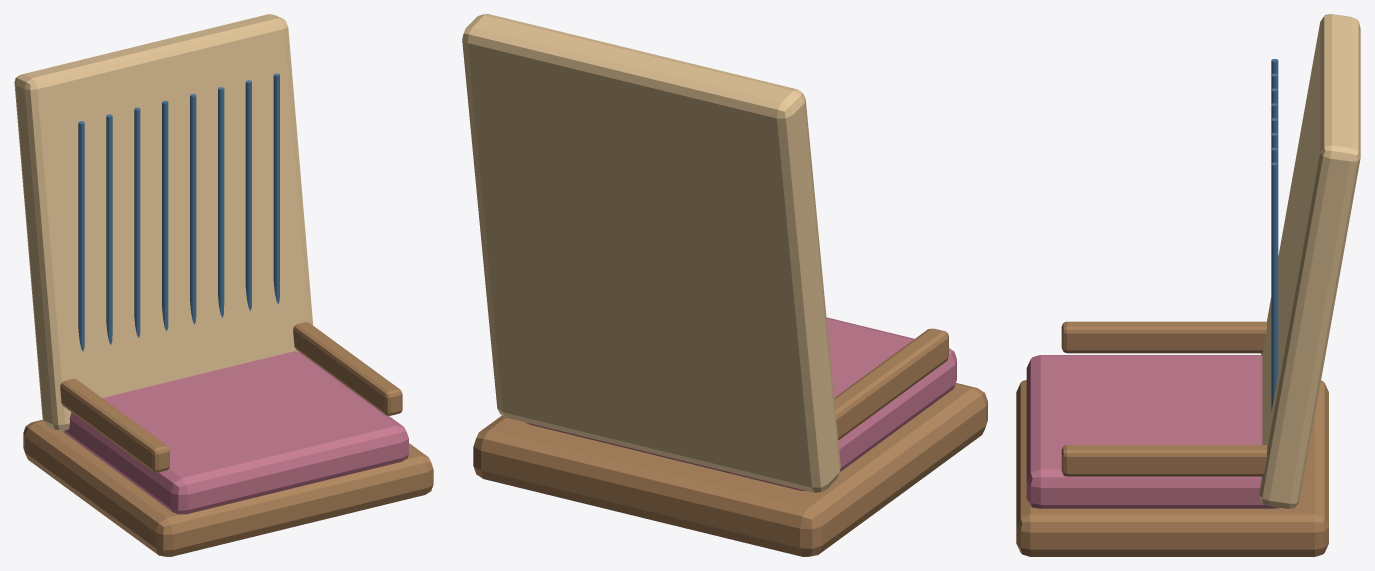
Rendered from woodwork_zaisu.glb.
3 renders of one model, left to right at view 1: azimuth 30°, elevation 25°; view 2: azimuth 150°, elevation 25°; view 3: azimuth 270°, elevation 25°, orthographic. The views are drawn at different scales.
Visible parts, largest first — view 1: Fitted angle backrest, Soft zaisu woven seat cushion, Zaisu reclining wooden seat, Curved chair side arm, Curved chair side arm.001, Woven backrest textile line.002, Woven backrest textile line.003, Woven backrest textile line.001, Woven backrest textile line.004, Woven backrest textile line.005, Woven backrest textile line, Woven backrest textile line.007 (+1 smaller); view 2: Fitted angle backrest, Zaisu reclining wooden seat, Soft zaisu woven seat cushion, Curved chair side arm; view 3: Soft zaisu woven seat cushion, Fitted angle backrest, Zaisu reclining wooden seat, Curved chair side arm, Curved chair side arm.001, Woven backrest textile line.007.
Boxes of the visible parts, box(x1,y1,x2,y2) form: Fitted angle backrest: box(14, 14, 313, 431); Soft zaisu woven seat cushion: box(63, 351, 408, 514); Zaisu reclining wooden seat: box(23, 419, 433, 556); Curved chair side arm: box(60, 378, 169, 472); Curved chair side arm.001: box(293, 322, 402, 415); Woven backrest textile line.002: box(134, 107, 140, 337); Woven backrest textile line.003: box(162, 101, 168, 331); Woven backrest textile line.001: box(106, 114, 112, 344); Woven backrest textile line.004: box(190, 94, 196, 324); Woven backrest textile line.005: box(218, 87, 224, 317); Woven backrest textile line: box(78, 121, 84, 351); Woven backrest textile line.007: box(273, 73, 279, 303); Fitted angle backrest: box(462, 14, 840, 492); Zaisu reclining wooden seat: box(473, 383, 987, 556); Soft zaisu woven seat cushion: box(525, 317, 956, 490); Curved chair side arm: box(834, 328, 948, 440); Soft zaisu woven seat cushion: box(1026, 355, 1280, 508); Fitted angle backrest: box(1259, 14, 1360, 508); Zaisu reclining wooden seat: box(1016, 380, 1328, 556); Curved chair side arm: box(1061, 321, 1266, 353); Curved chair side arm.001: box(1061, 445, 1266, 476); Woven backrest textile line.007: box(1271, 162, 1278, 411).
Size of the model in its own units: 1.49 by 1.94 by 1.48.
